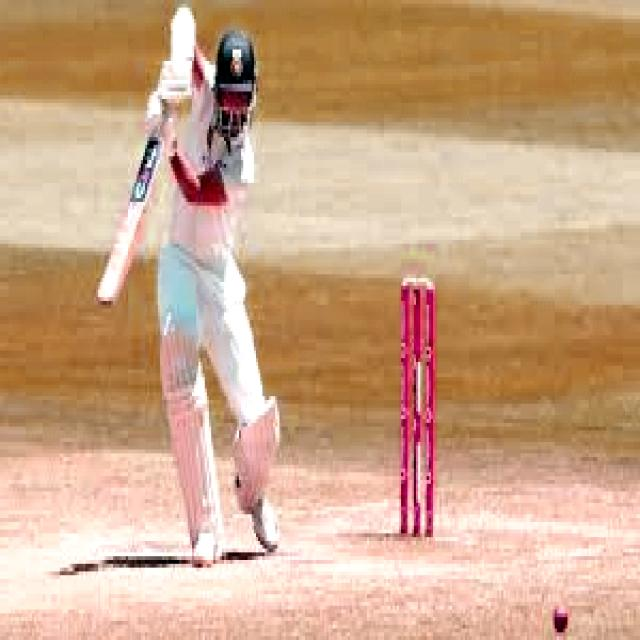toe: (93, 280, 117, 310)
